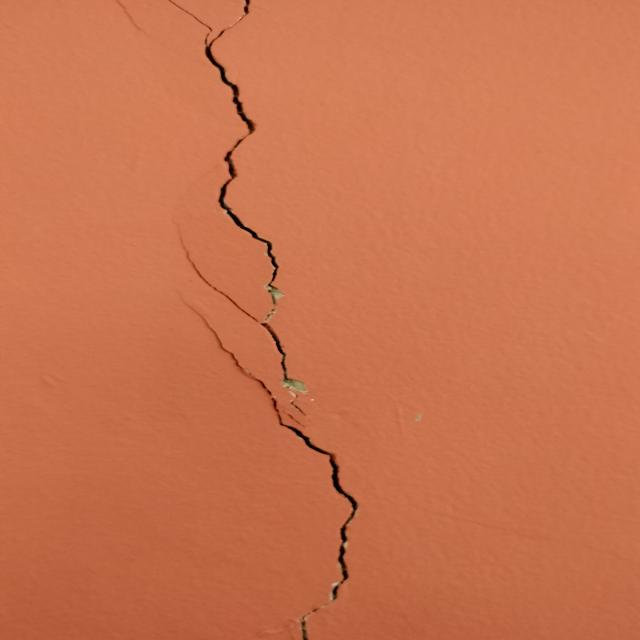Crack: (151, 2, 373, 640)
